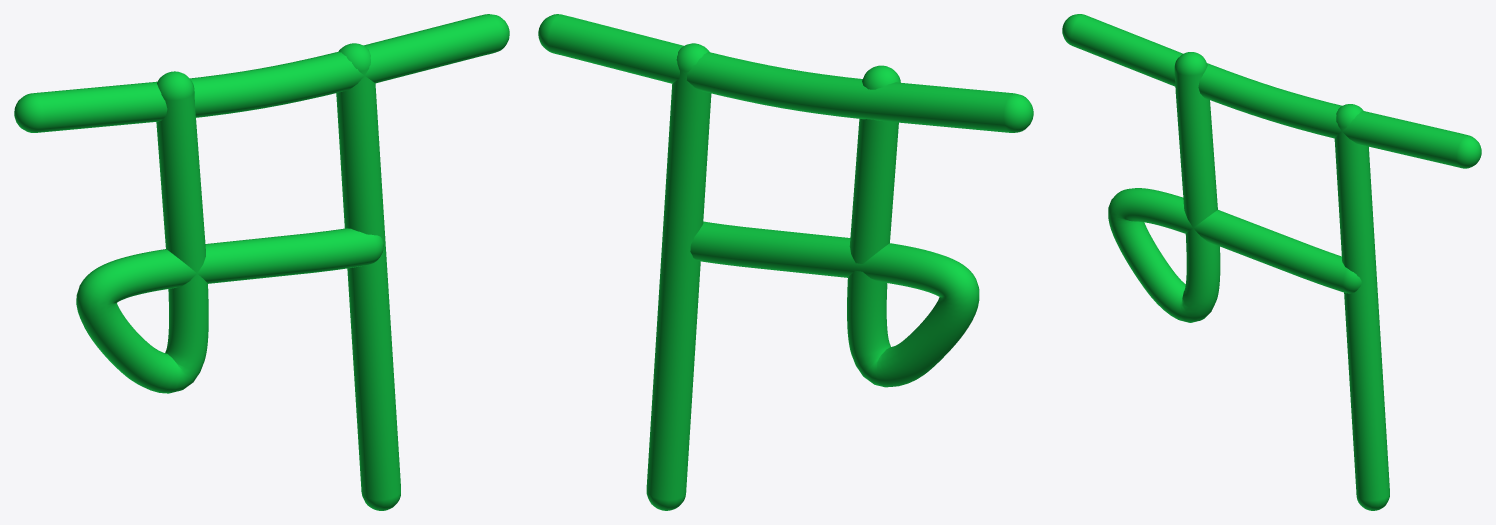
File: ma_hindi.fbx
3 views of the same model, side by side, from view 1: azimuth 30°, elevation 25°; view 2: azimuth 150°, elevation 25°; view 3: azimuth 330°, elevation 25° (orthographic). The views are drawn at different scales.
Visible parts, largest first — view 1: node_id114 (×3); view 2: node_id114 (×3); view 3: node_id114 (×3).
Part boxes in pixels (x1=…): node_id114 (×3): x1=14, y1=14, x2=509, y2=510; node_id114 (×3): x1=538, y1=14, x2=1033, y2=510; node_id114 (×3): x1=1062, y1=14, x2=1481, y2=510.
Bounding box in the file's own units: 0.8465 × 0.823 × 0.0716.
